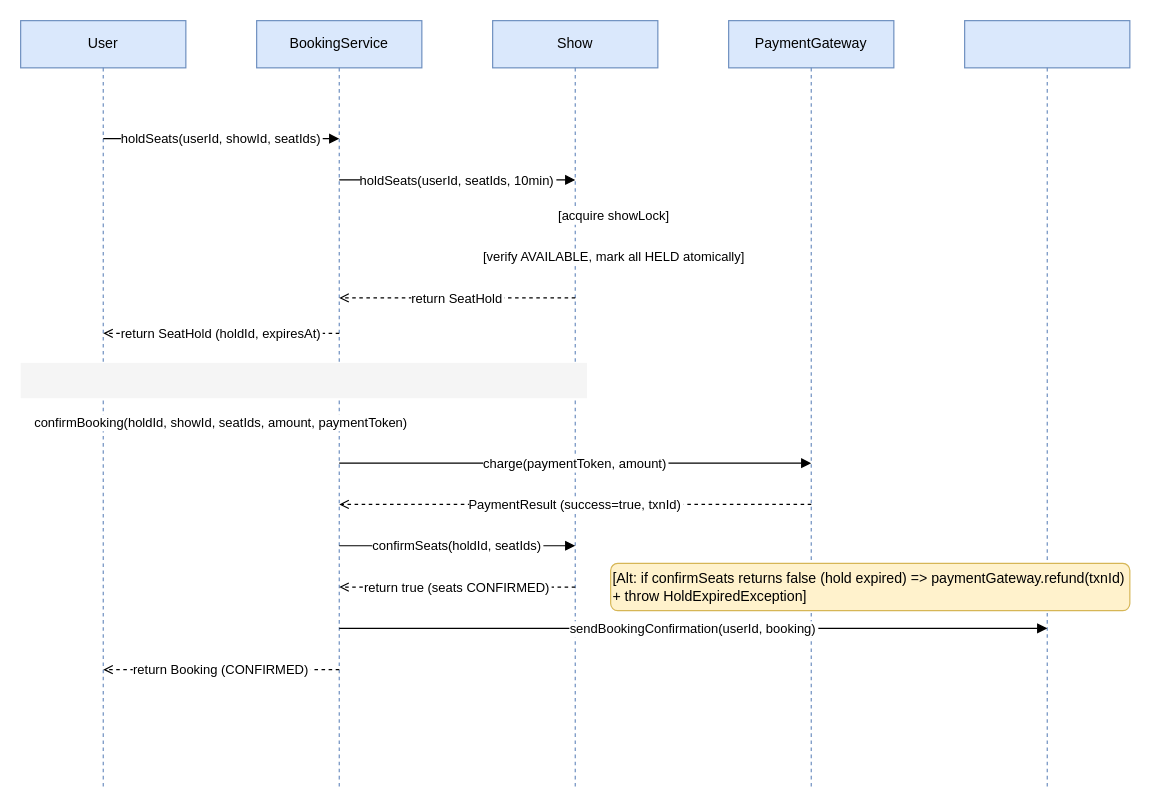
Some shapes in this 1151 by 808 pixel diagram are drawn without their labels. Here are the shapes that lost their labels. From the top down, the box of each, then its label:
(20, 362, 586, 398): --- User proceeds to payment page (10-min TTL running) ---
(963, 19, 1130, 788): NotificationService
